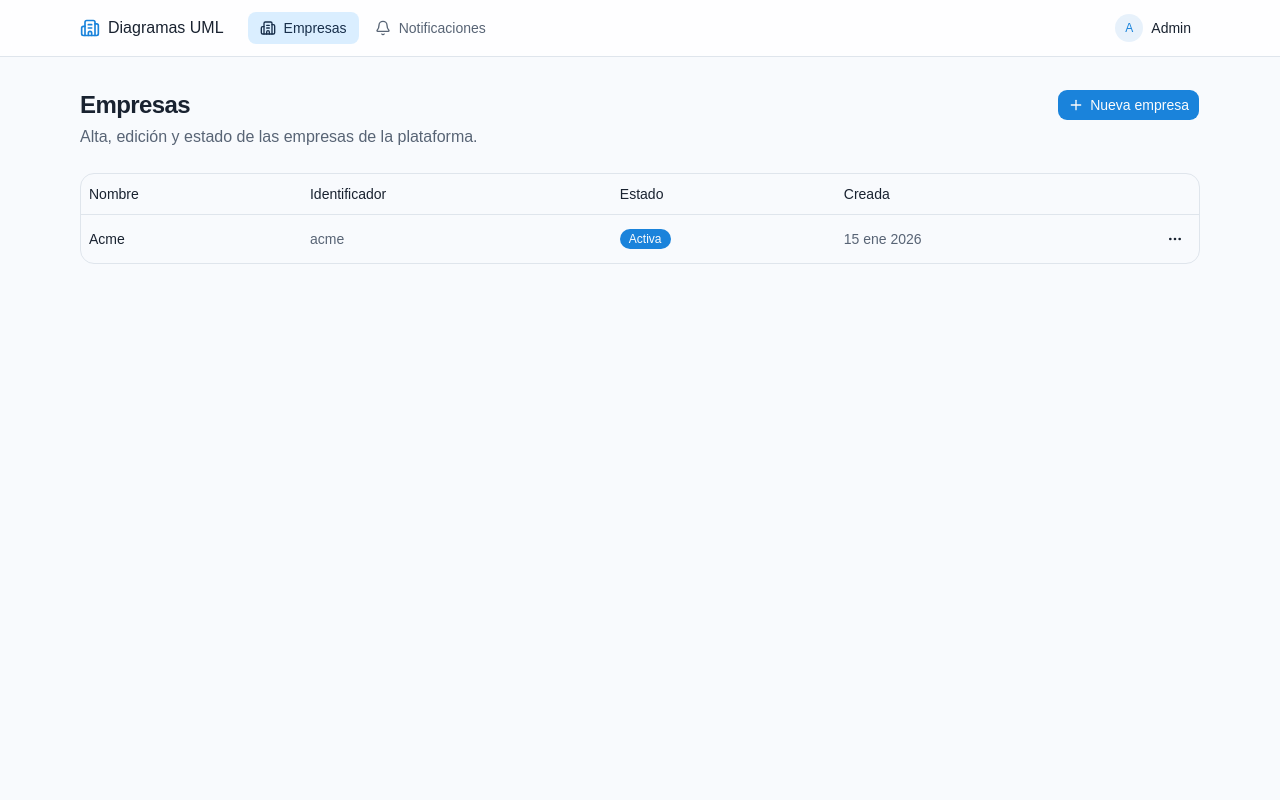
Test case: CU-02 Gestionar empresas › muestra DUPLICATE_COMPANY sin cerrar el formulario
Click the button "Nueva empresa" at (1129, 105), box [1057,89,1200,121]
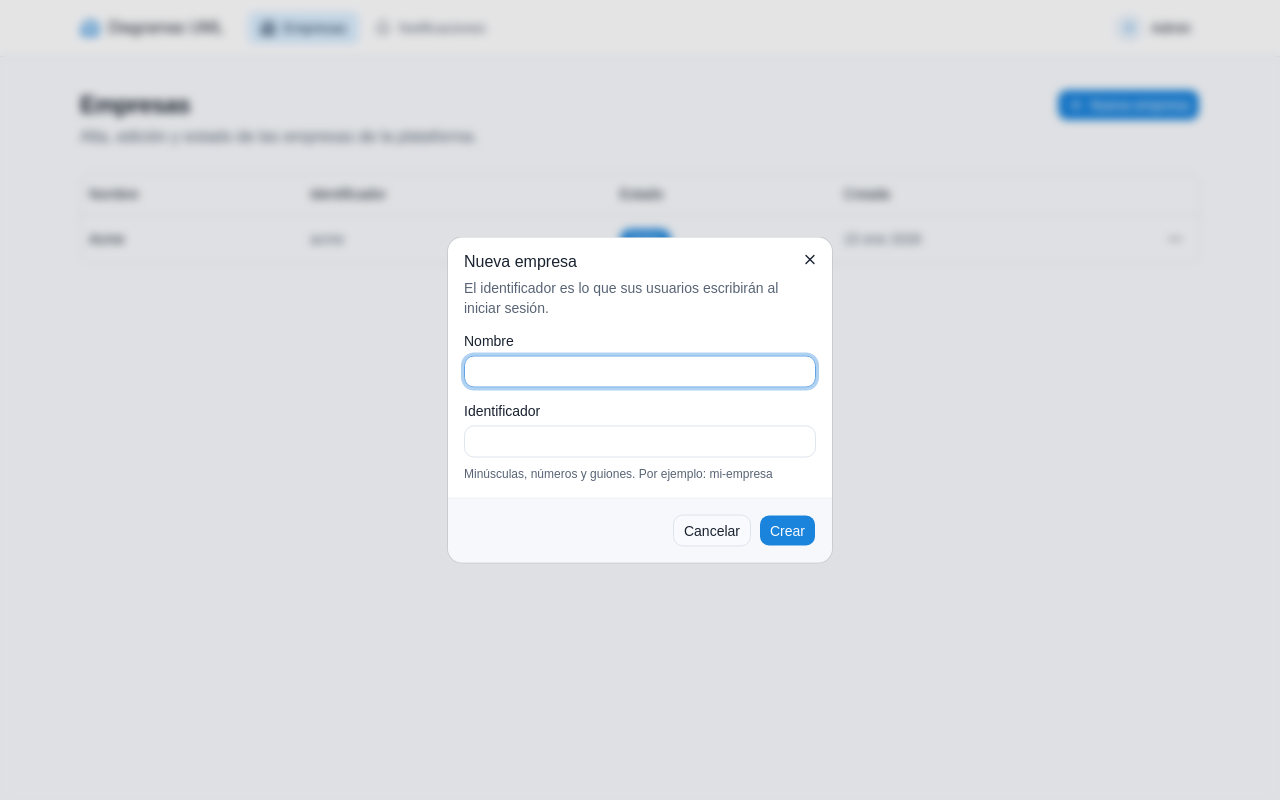
Type "Acme" into the field labelled "Nombre" at (640, 372), box [464,356,816,388]
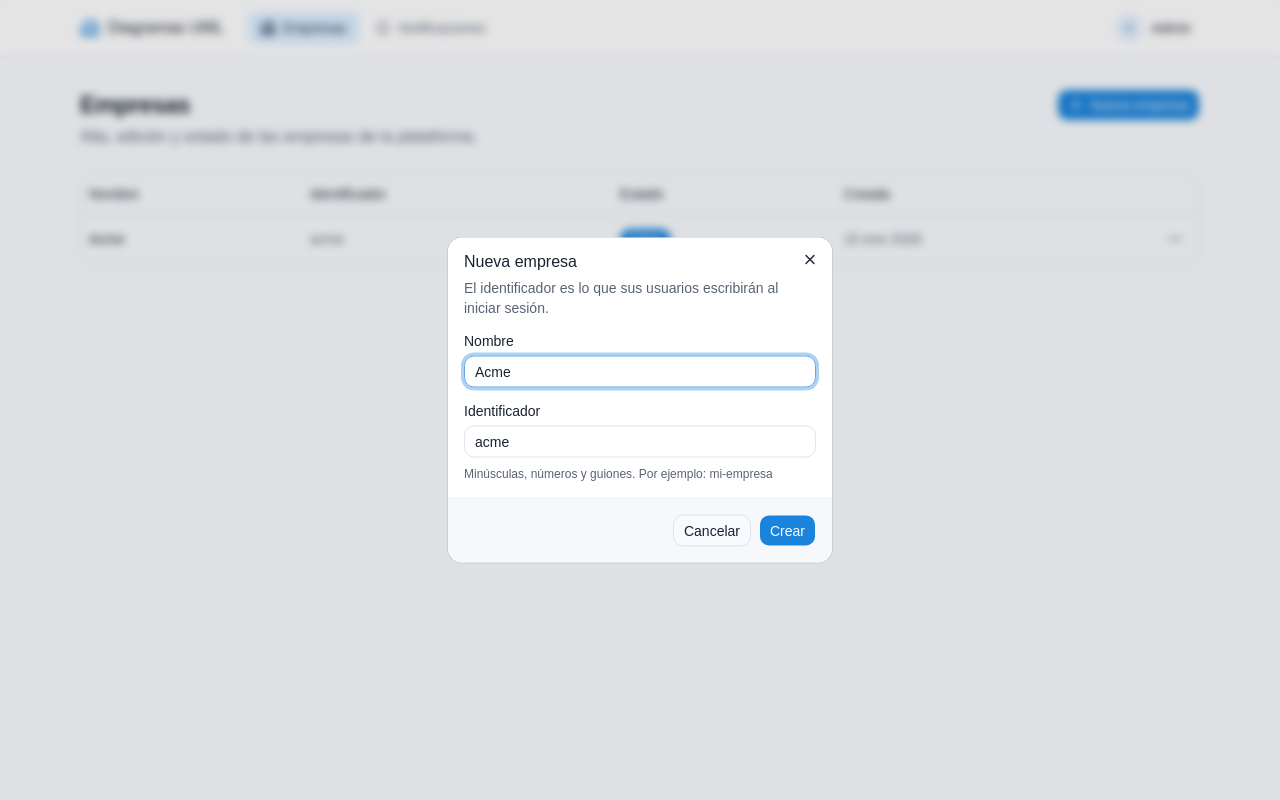
Click the button "Crear" at (788, 530), box [759,514,816,546]
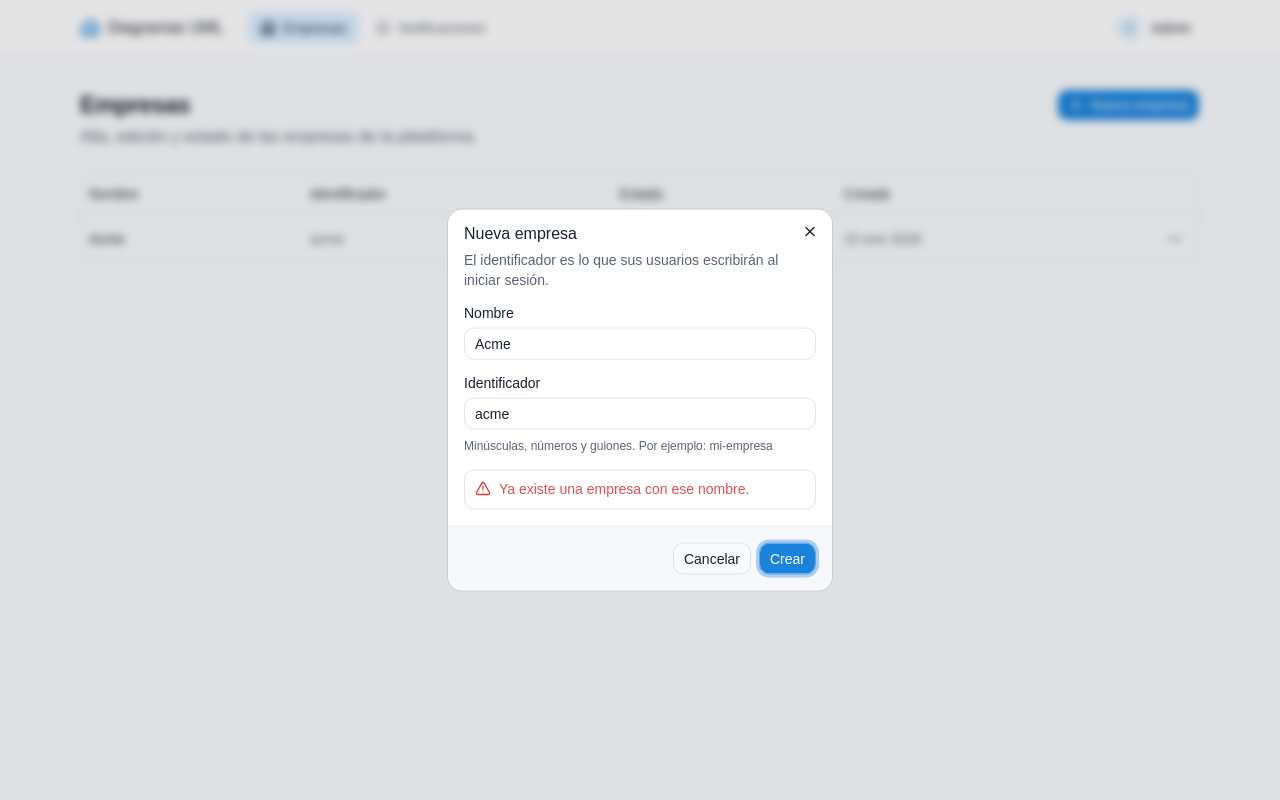
Result: the dialog is shown at [448,210,832,590]
Result: the message reads "Ya existe una empresa con ese nombre." at [499,480,749,496]
